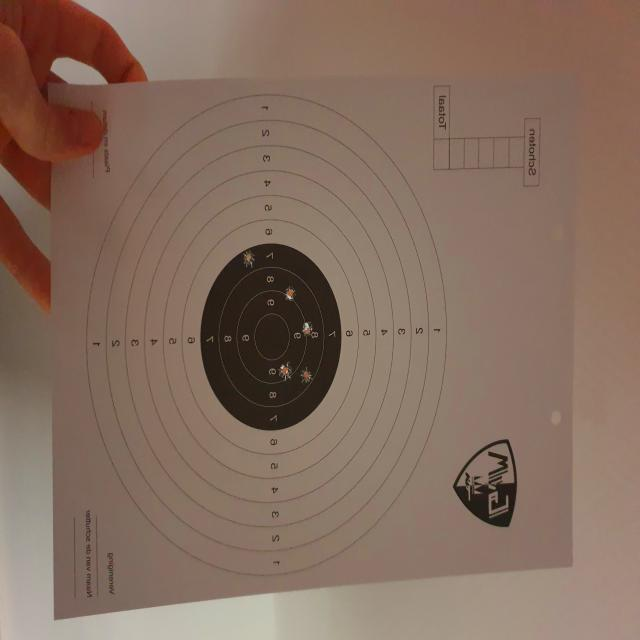7: (243, 250, 255, 268)
8: (300, 367, 314, 384)
9: (278, 361, 292, 381), (284, 286, 296, 302), (302, 321, 314, 337)
Target: (85, 92, 448, 583)
black_contour: (200, 243, 341, 431)
